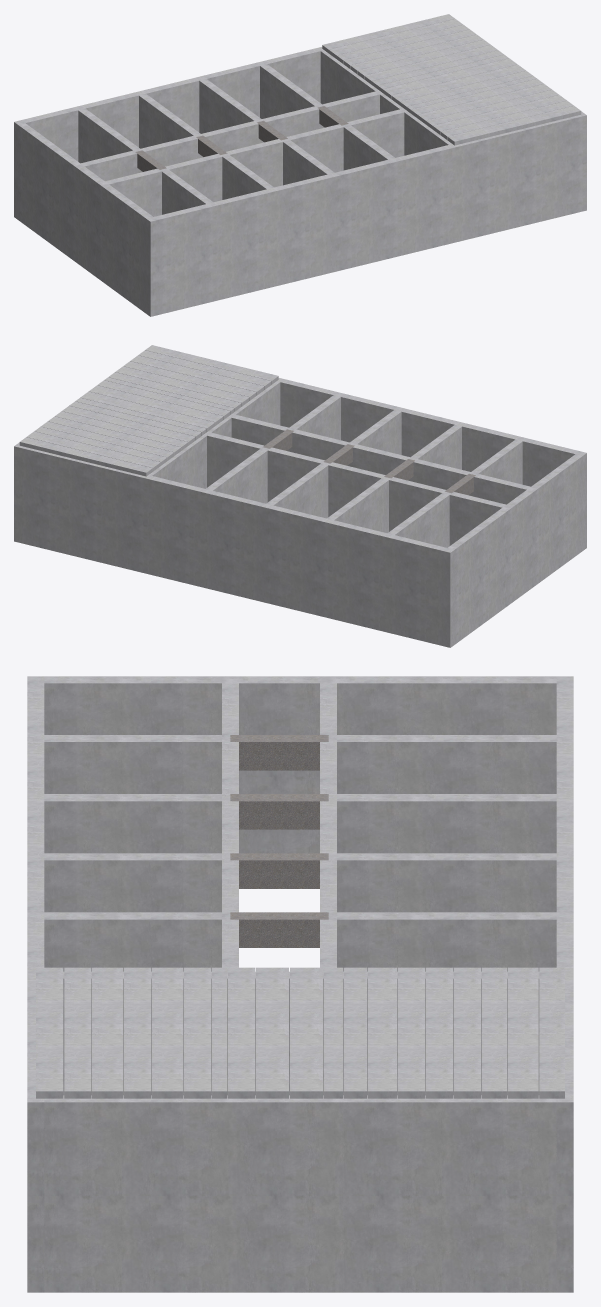
The model's file is transverse.glb.
3 renders of one model, top to bottom at view 1: azimuth 30°, elevation 25°; view 2: azimuth 150°, elevation 25°; view 3: azimuth 270°, elevation 25°, orthographic. The views are drawn at different scales.
Parts seen in each view (by area): view 1: 墙体, 楼板, 横向梁; view 2: 墙体, 楼板, 横向梁; view 3: 墙体, 楼板, 横向梁.
Part boxes in pixels (x1,y1,x2,y2): 墙体: (14,47,586,316); 楼板: (322,14,581,145); 横向梁: (135,106,348,171); 墙体: (14,378,586,647); 楼板: (19,345,278,476); 横向梁: (263,429,475,495); 墙体: (27,676,573,1292); 楼板: (36,967,564,1098); 横向梁: (230,735,328,947).
Bounding box in the file's own units: 14.4 × 3.12 × 7.8.
Materials: 3 (3 with a texture image).
